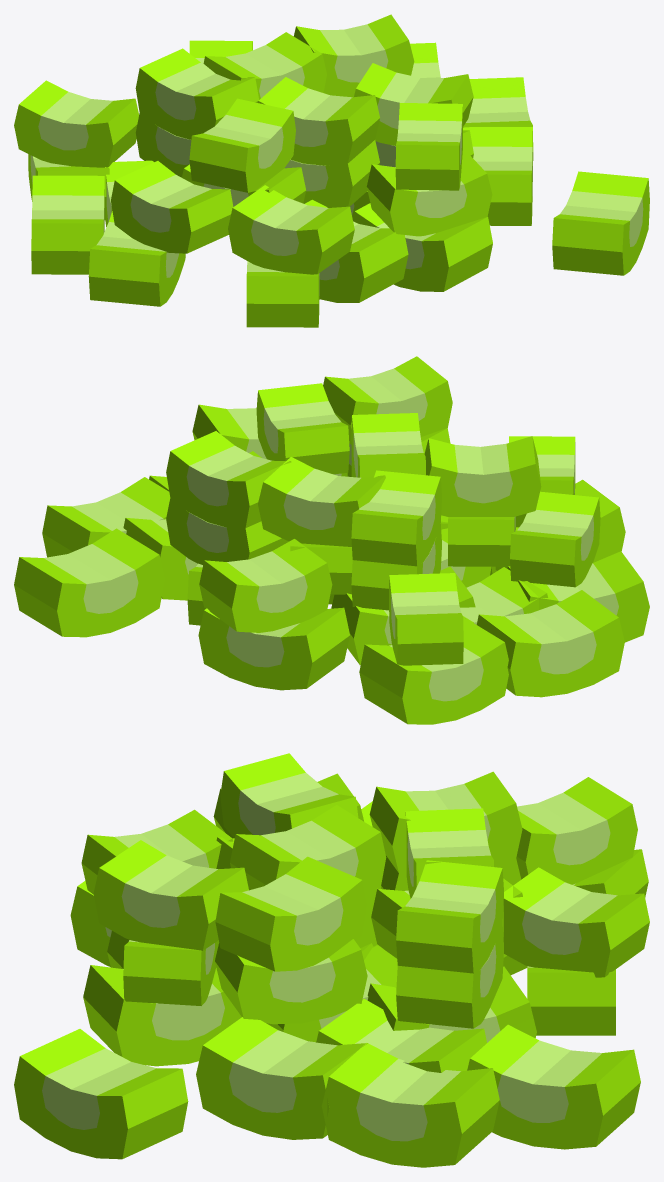
The model's file is ApioCortado.fbx.
3 views of the same model, one above another, from view 1: azimuth 30°, elevation 25°; view 2: azimuth 150°, elevation 25°; view 3: azimuth 270°, elevation 25° (orthographic). The views are drawn at different scales.
Visible parts, largest first — view 1: ApioCortado; view 2: ApioCortado; view 3: ApioCortado.
Part boxes in pixels (x1,y1,x2,y2): ApioCortado: [14, 14, 649, 327]; ApioCortado: [14, 356, 649, 724]; ApioCortado: [14, 753, 649, 1167].
Size of the model in its own units: 8.19 by 2.22 by 6.98.
